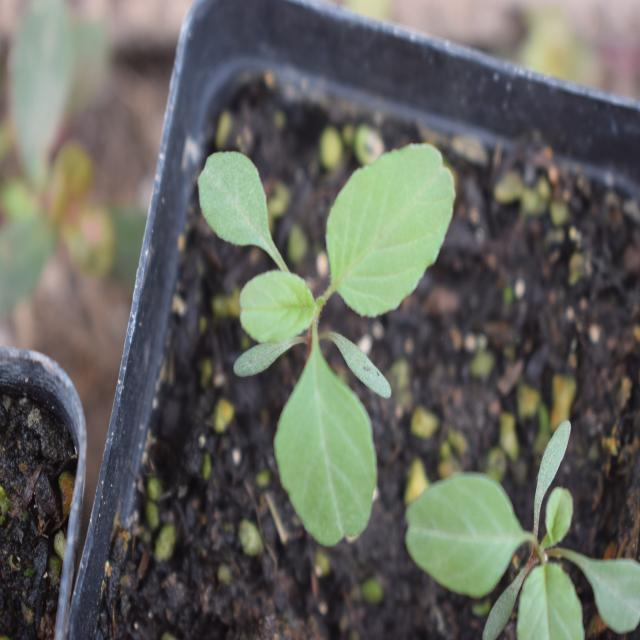pigweed: (188, 114, 458, 529)
